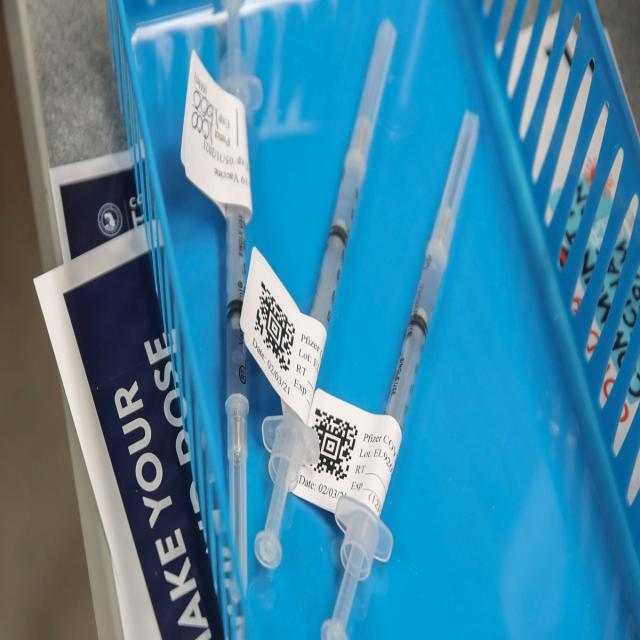B3: (179, 1, 258, 605)
